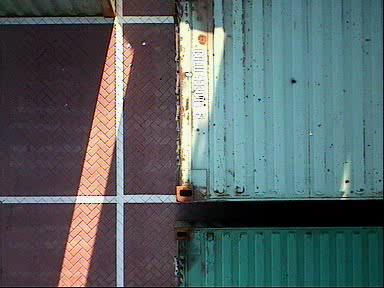groundmarker_2: (170, 1, 239, 80)
